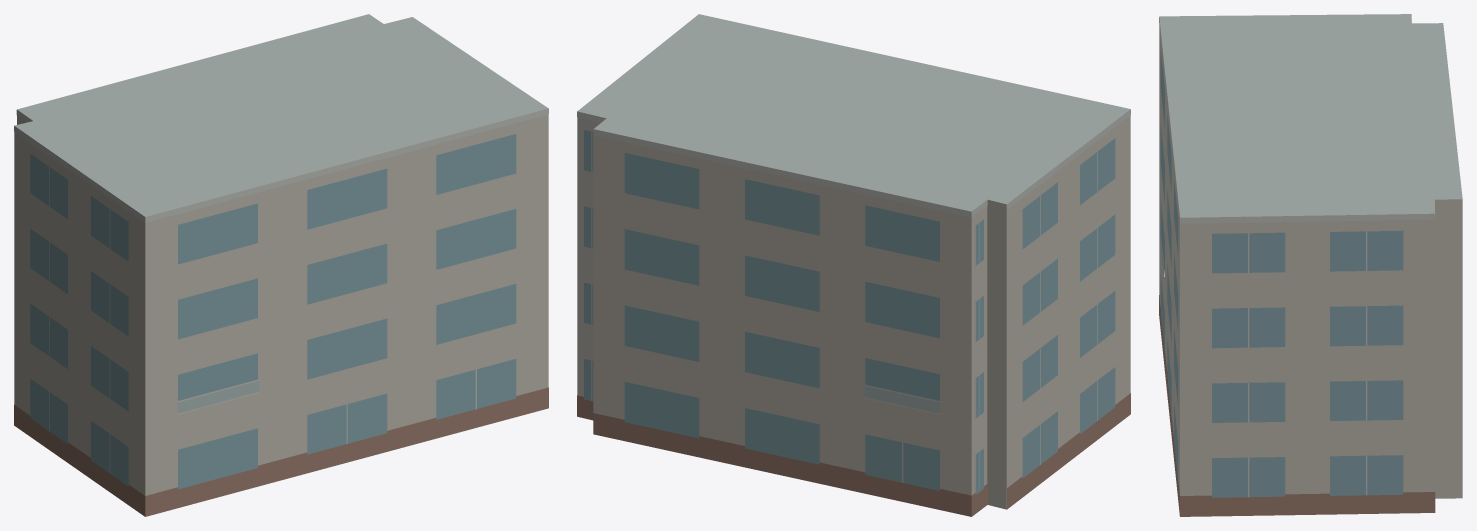
Rendered from survey-upis-32737614.glb.
The picture shows the model from 3 angles, left to right: view 1: azimuth 30°, elevation 25°; view 2: azimuth 150°, elevation 25°; view 3: azimuth 270°, elevation 25°; orthographic projection. The views are drawn at different scales.
Visible parts, largest first — view 1: survey-upis-32737614.tmp; view 2: survey-upis-32737614.tmp; view 3: survey-upis-32737614.tmp.
Part boxes in pixels (x1=…): survey-upis-32737614.tmp: x1=14, y1=14, x2=548, y2=516; survey-upis-32737614.tmp: x1=577, y1=14, x2=1130, y2=516; survey-upis-32737614.tmp: x1=1159, y1=14, x2=1462, y2=516.
Bounding box in the file's own units: 17.83 × 12.2 × 11.23.
